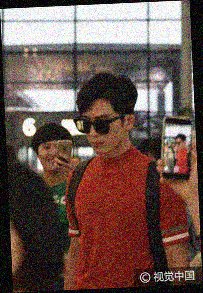without_mask: (82, 110, 126, 155), (38, 141, 64, 174)
